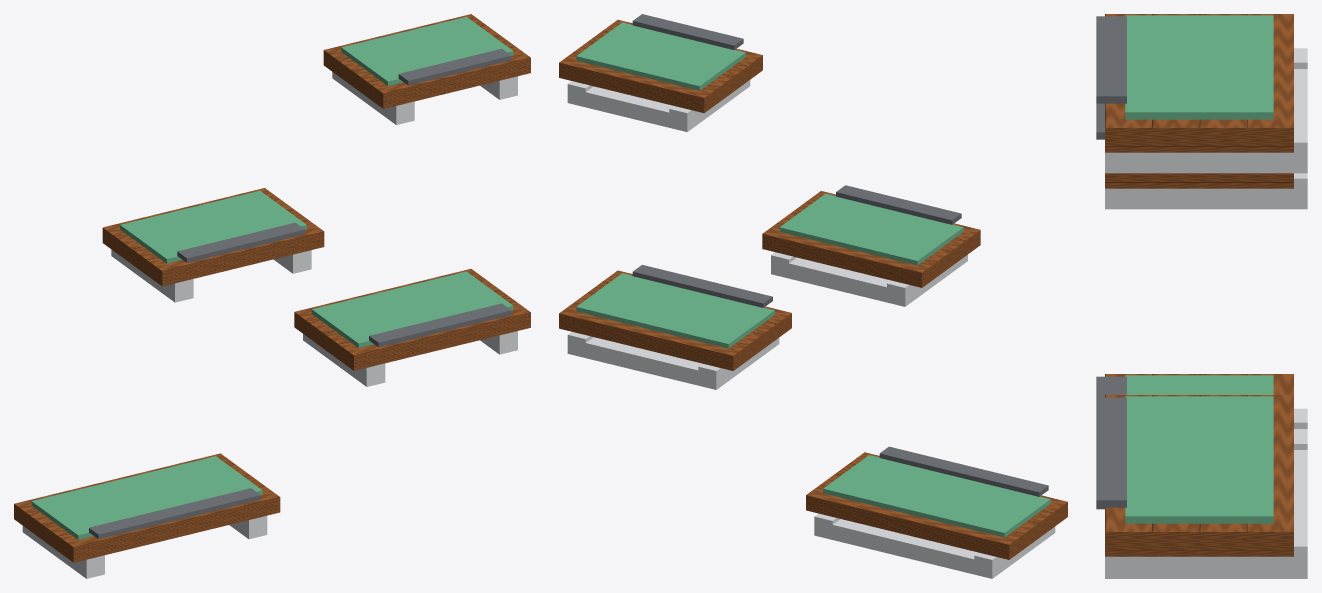
File: boarding-kennels-and-cattery-boarding-kennels-and-catt-3ca3fc49__35548.glb
The picture shows the model from 3 angles, left to right: view 1: azimuth 30°, elevation 25°; view 2: azimuth 150°, elevation 25°; view 3: azimuth 270°, elevation 25°; orthographic projection. The views are drawn at different scales.
Visible parts, largest first — view 1: boarding-kennels-and-cattery-cat-walkway-shelf-set; view 2: boarding-kennels-and-cattery-cat-walkway-shelf-set; view 3: boarding-kennels-and-cattery-cat-walkway-shelf-set.
Boxes of the visible parts, box(x1,y1,x2,y2) form: boarding-kennels-and-cattery-cat-walkway-shelf-set: box(14, 14, 530, 578); boarding-kennels-and-cattery-cat-walkway-shelf-set: box(559, 14, 1067, 578); boarding-kennels-and-cattery-cat-walkway-shelf-set: box(1096, 14, 1307, 578).
Size of the model in its own units: 1.24 by 1.09 by 0.3125.
4 materials, 1 textured.
